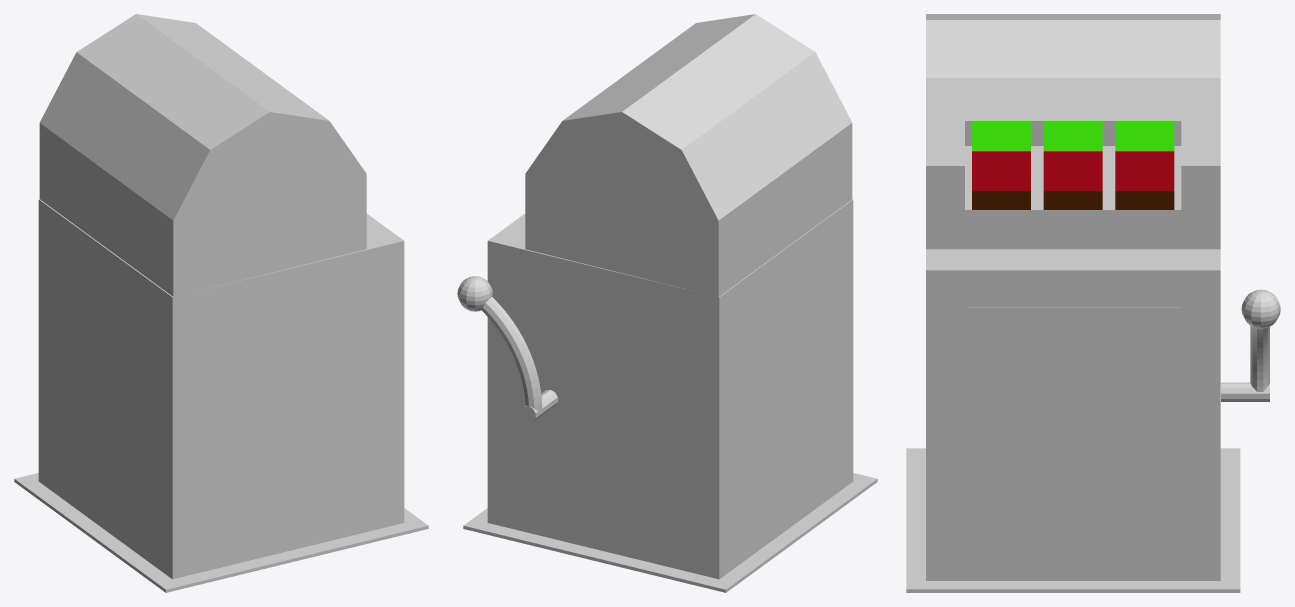
File: Slotmahine.fbx
3 renders of one model, left to right at view 1: azimuth 30°, elevation 25°; view 2: azimuth 150°, elevation 25°; view 3: azimuth 270°, elevation 25°, orthographic. The views are drawn at different scales.
Visible parts, largest first — view 1: Cube, Cylinder, Cube.002; view 2: Cube, Cylinder, Cube.002, Handle; view 3: Metalframe, Cylinder, Cube, Cube.001, Cube.002, Cylinder.002, Cylinder.003, Cylinder.001, Handle.
Part boxes in pixels (<box>): Cube: <box>38,199,404,579</box>; Cylinder: <box>39,14,366,296</box>; Cube.002: <box>14,473,428,592</box>; Cube: <box>487,199,853,579</box>; Cylinder: <box>525,14,852,296</box>; Cube.002: <box>463,473,877,592</box>; Handle: <box>457,276,557,422</box>; Metalframe: <box>935,281,1210,575</box>; Cylinder: <box>926,14,1220,249</box>; Cube: <box>926,146,1220,580</box>; Cube.001: <box>966,307,1179,396</box>; Cube.002: <box>906,448,1240,592</box>; Cylinder.002: <box>1043,121,1102,209</box>; Cylinder.003: <box>1115,121,1174,209</box>; Cylinder.001: <box>972,121,1030,209</box>; Handle: <box>1221,289,1280,401</box>.
Size of the model in its own units: 34 by 55.29 by 38.13.
